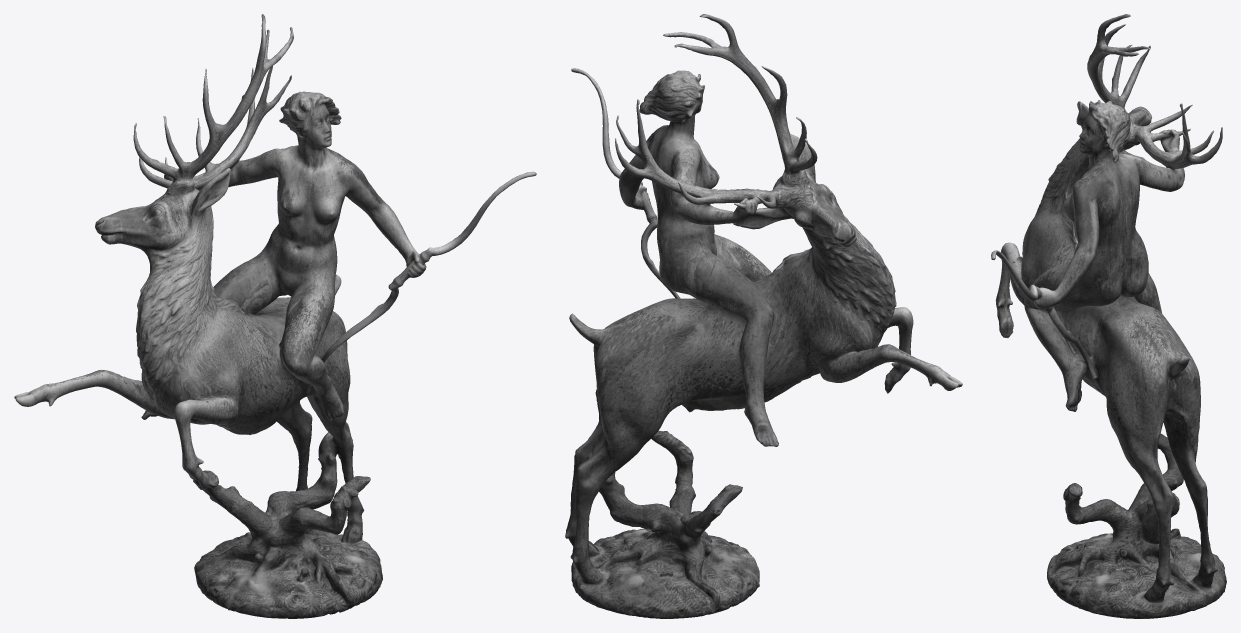
The model's file is artemis_fountain.glb.
3 renders of one model, left to right at view 1: azimuth 30°, elevation 25°; view 2: azimuth 150°, elevation 25°; view 3: azimuth 270°, elevation 25°, orthographic. The views are drawn at different scales.
Parts seen in each view (by area): view 1: Object_2; view 2: Object_2; view 3: Object_2.
Boxes of the visible parts, bbox=[...] form: Object_2: bbox=[14, 14, 536, 618]; Object_2: bbox=[565, 14, 962, 618]; Object_2: bbox=[991, 14, 1226, 618].
Size of the model in its own units: 28.47 by 34.22 by 13.27.
1 material, 1 textured.
